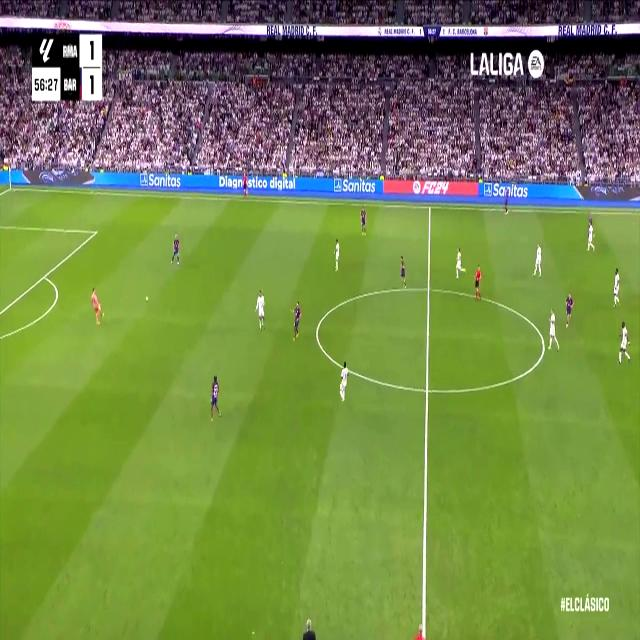bigarea_top_inner: (92, 225, 99, 238)
corner: (7, 182, 15, 192)
halfcircle_bottom: (422, 376, 434, 403)
halfcircle_top: (423, 276, 435, 300)
midline_top_intersection: (427, 200, 433, 213)
top_arc_area_intersection: (40, 268, 48, 283)
